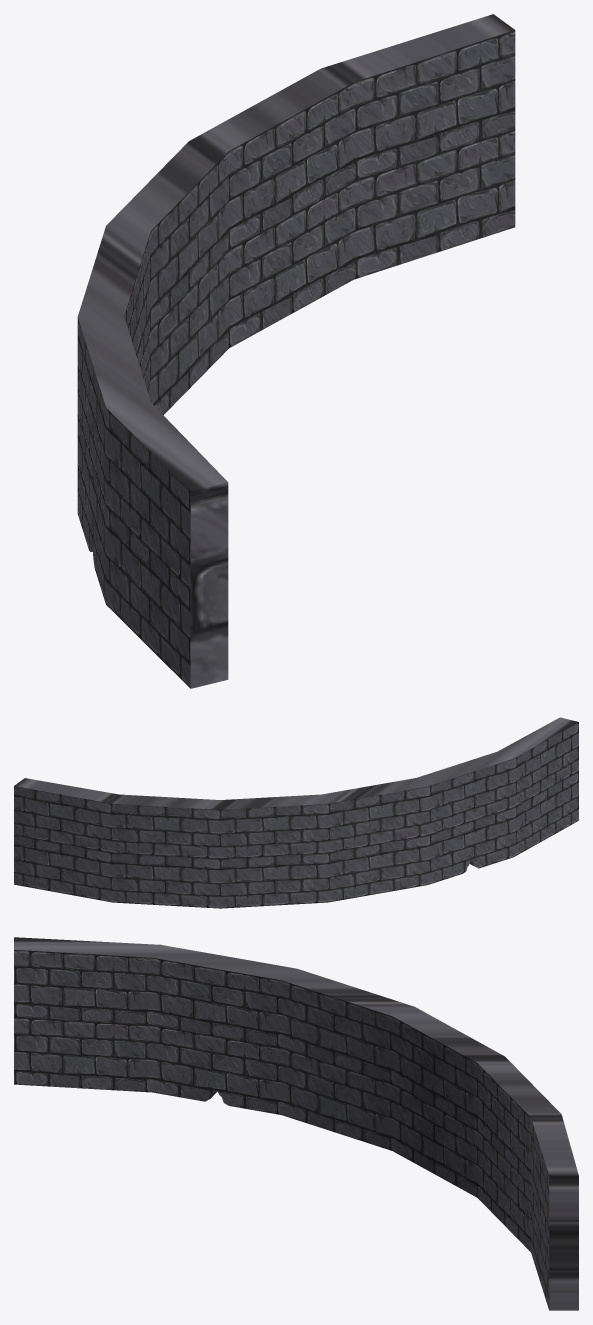
File: e_tower_wall_outer_crack.fbx
3 renders of one model, top to bottom at view 1: azimuth 30°, elevation 25°; view 2: azimuth 150°, elevation 25°; view 3: azimuth 270°, elevation 25°, orthographic. The views are drawn at different scales.
Parts seen in each view (by area): view 1: polySurface2779; view 2: polySurface2779; view 3: polySurface2779.
Part boxes in pixels (box(x1,y1,x2,y2)): polySurface2779: box(77, 14, 515, 688); polySurface2779: box(14, 717, 578, 908); polySurface2779: box(14, 937, 578, 1310).
Size of the model in its own units: 9.5 by 2.5 by 9.5.
